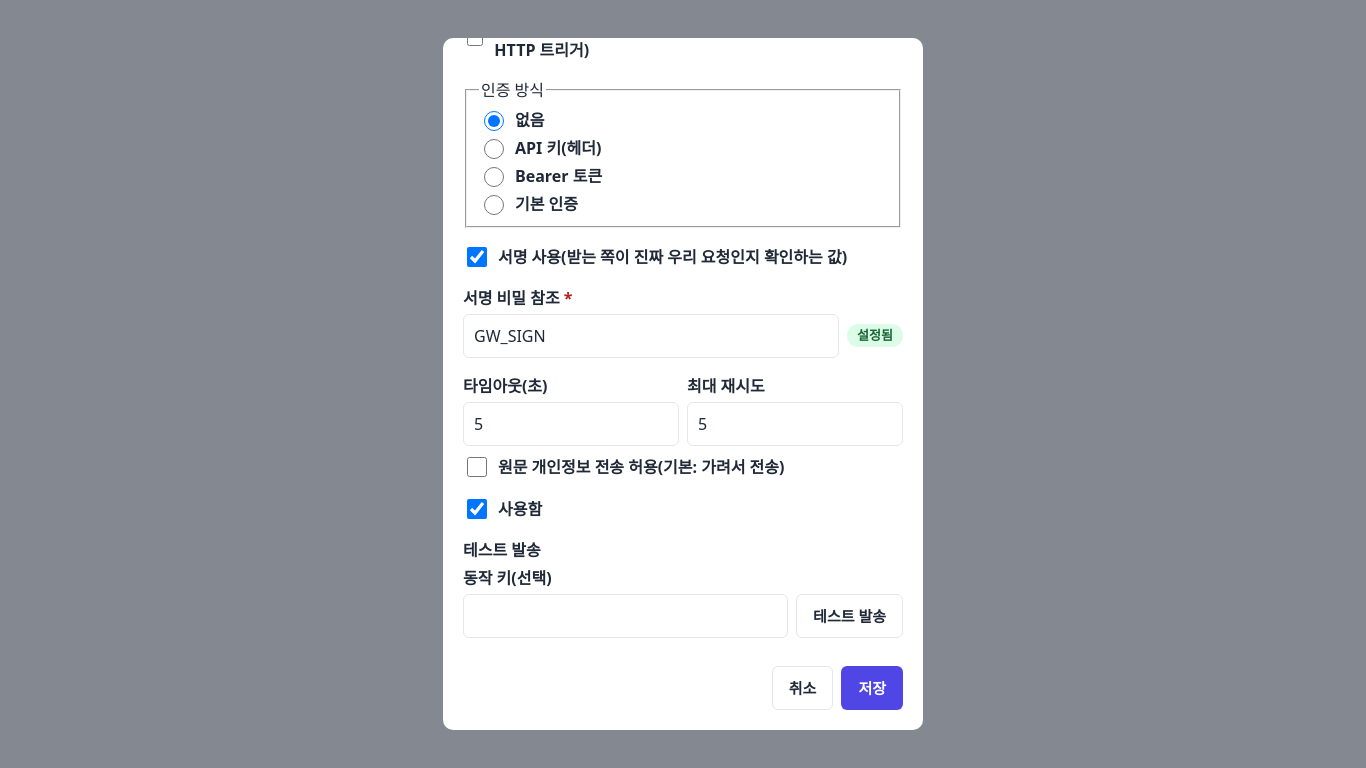
Test case: WorkflowTargetEditModal › CONFIRM_NAME_MISMATCH 응답이면 인라인 오류로 매핑한다
(page scrolled)
Step 1. Click the checkbox labelled "원문 개인정보 전송 허용(기본: 가려서 전송)" → [477, 466], box [467,456,487,476]
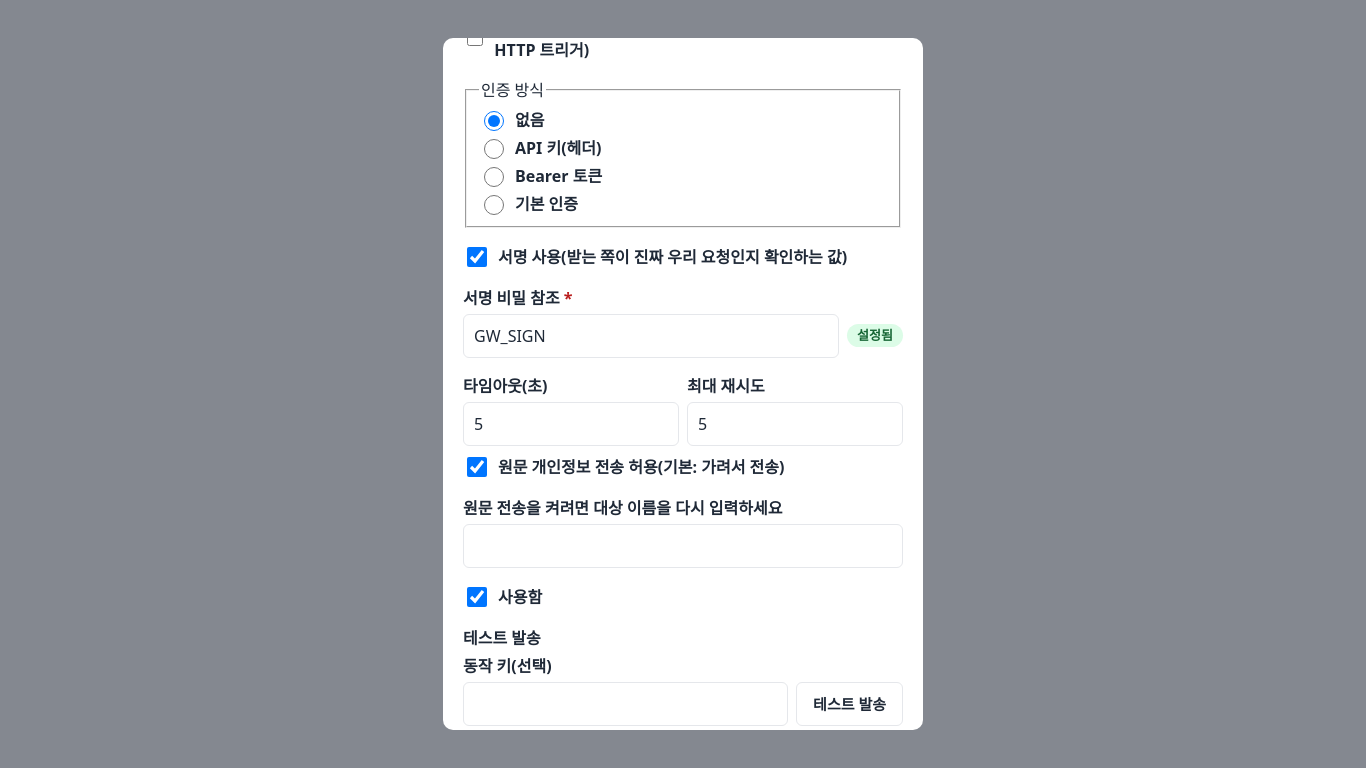
Step 2. Type "그룹웨어 결재 흐름" into the field labelled "원문 전송을 켜려면 대상 이름을 다시 입력하세요" → [683, 546], box [463,524,903,568]
(page scrolled)
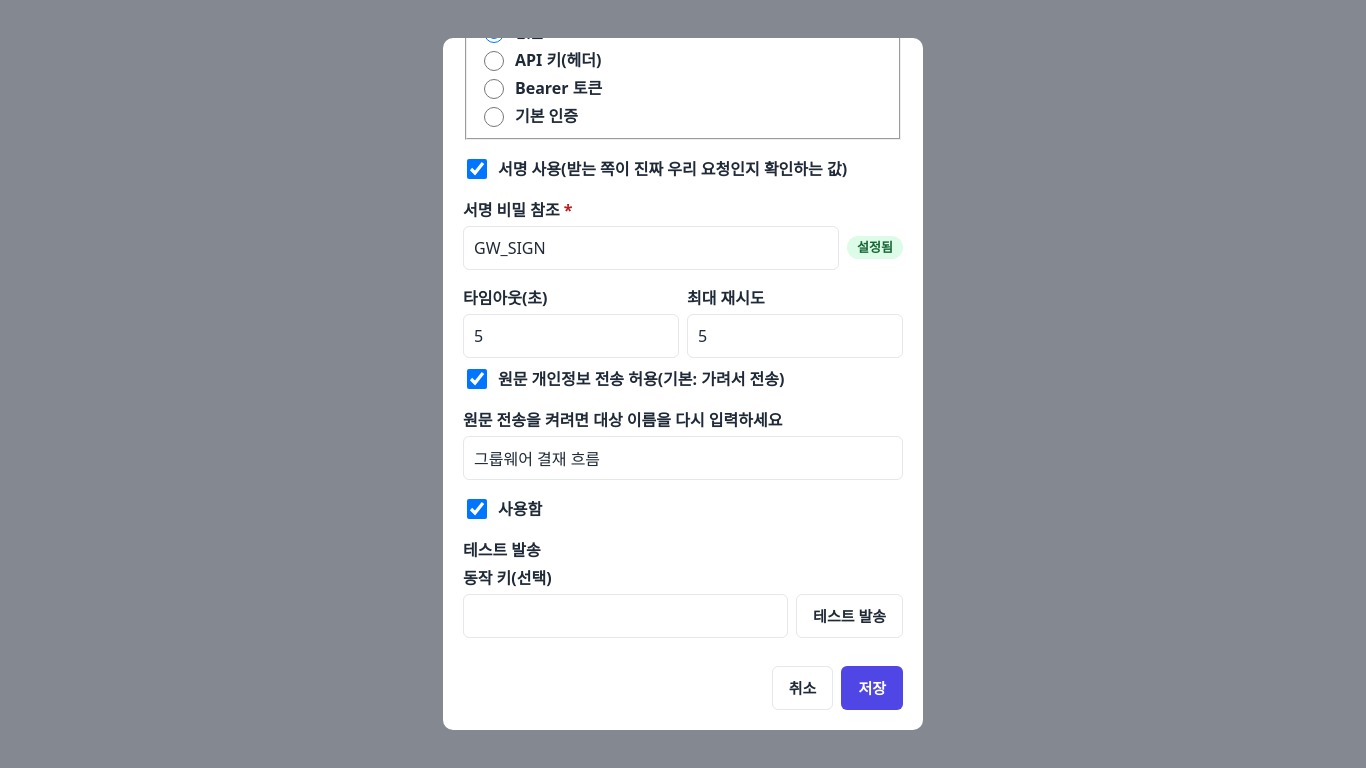
Step 3. Click the button "저장" → [872, 688], box [841,666,903,710]
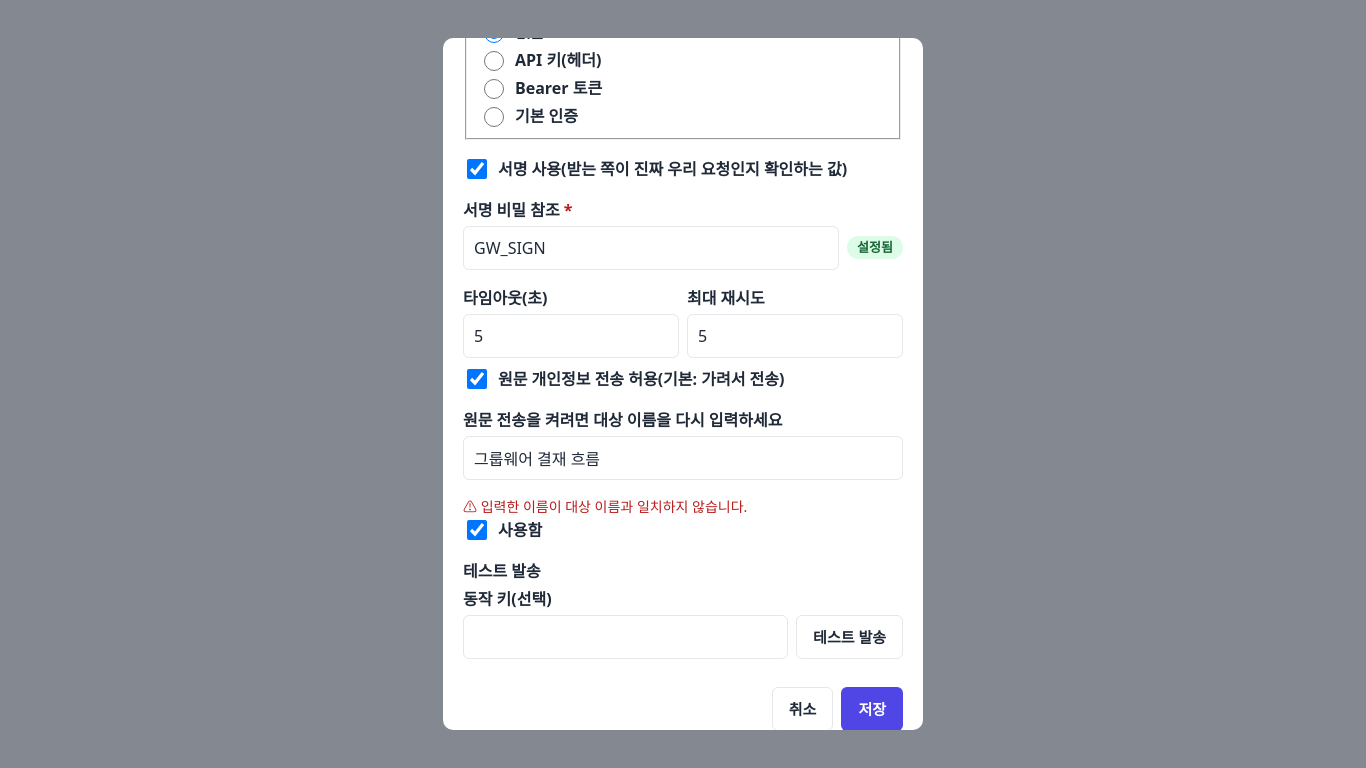
Check: the text "입력한 이름이 대상 이름과 일치하지 않습니다." is shown, box [481,496,747,516]
